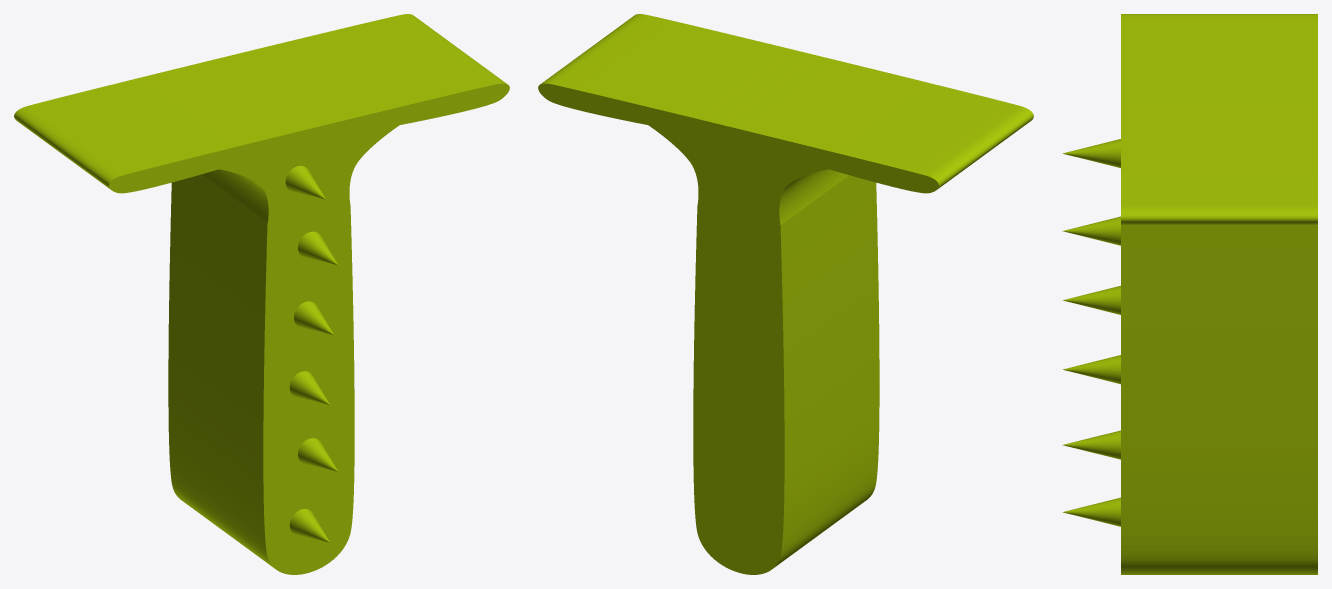
Rendered from dog toy.obj.
3 renders of one model, left to right at view 1: azimuth 30°, elevation 25°; view 2: azimuth 150°, elevation 25°; view 3: azimuth 270°, elevation 25°, orthographic. The views are drawn at different scales.
Visible parts, largest first — view 1: obj_0; view 2: obj_0; view 3: obj_0.
Boxes of the visible parts, x1,y1,x2,y2 form: obj_0: [14, 14, 509, 574]; obj_0: [538, 14, 1033, 574]; obj_0: [1062, 14, 1317, 574].
Bounding box in the file's own units: 24.37 × 25.79 × 13.
